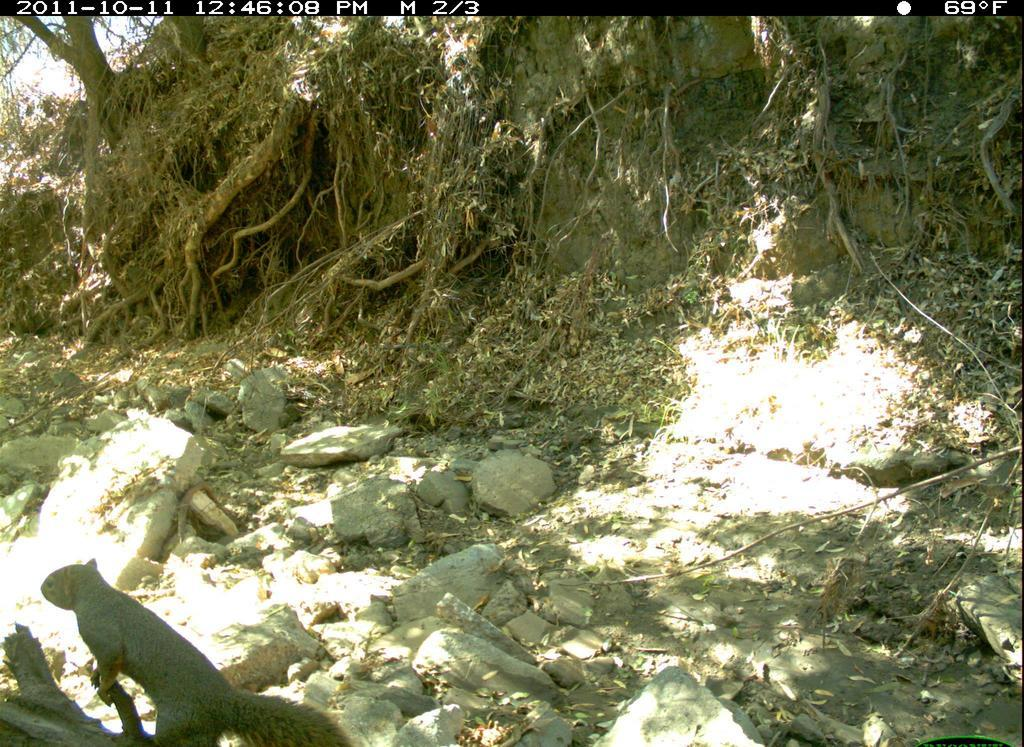squirrel: (35, 552, 364, 747)
